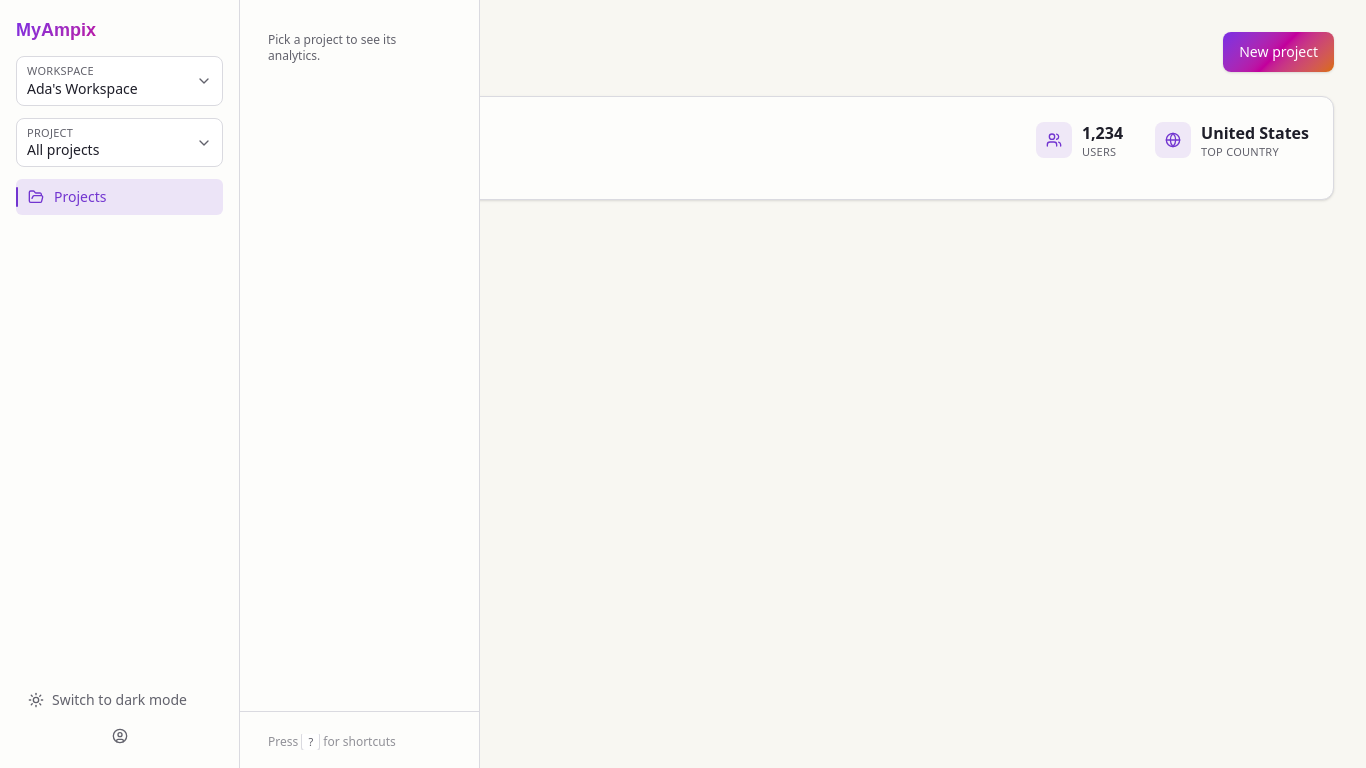
ProjectsPage — creating a project › lets an admin create a new project in the current organization
Expected: the heading "Projects" is shown, [160,36,256,68]
Click the button "New project" at (1279,52), box [1223,32,1334,72]
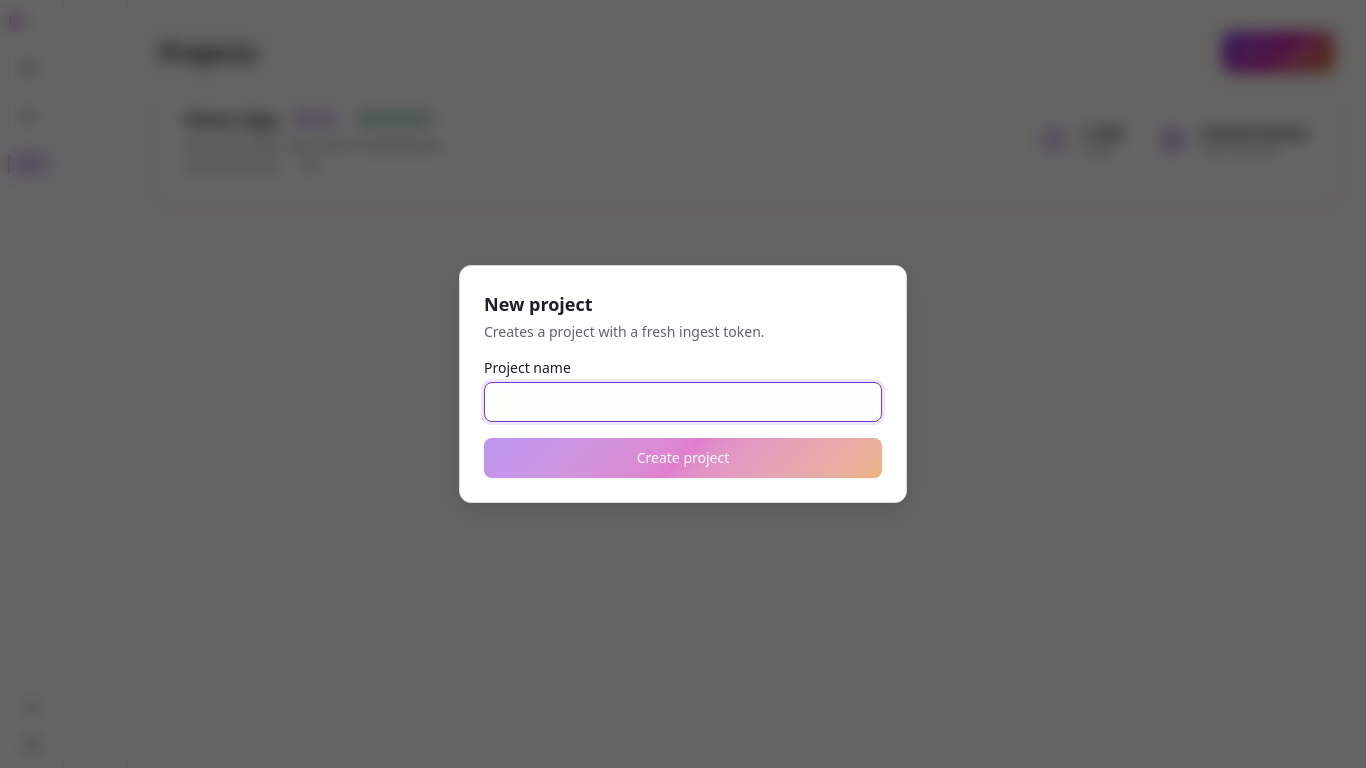
Type "Mobile App" into the field labelled "Project name" at (683,402), box [484,382,882,422]
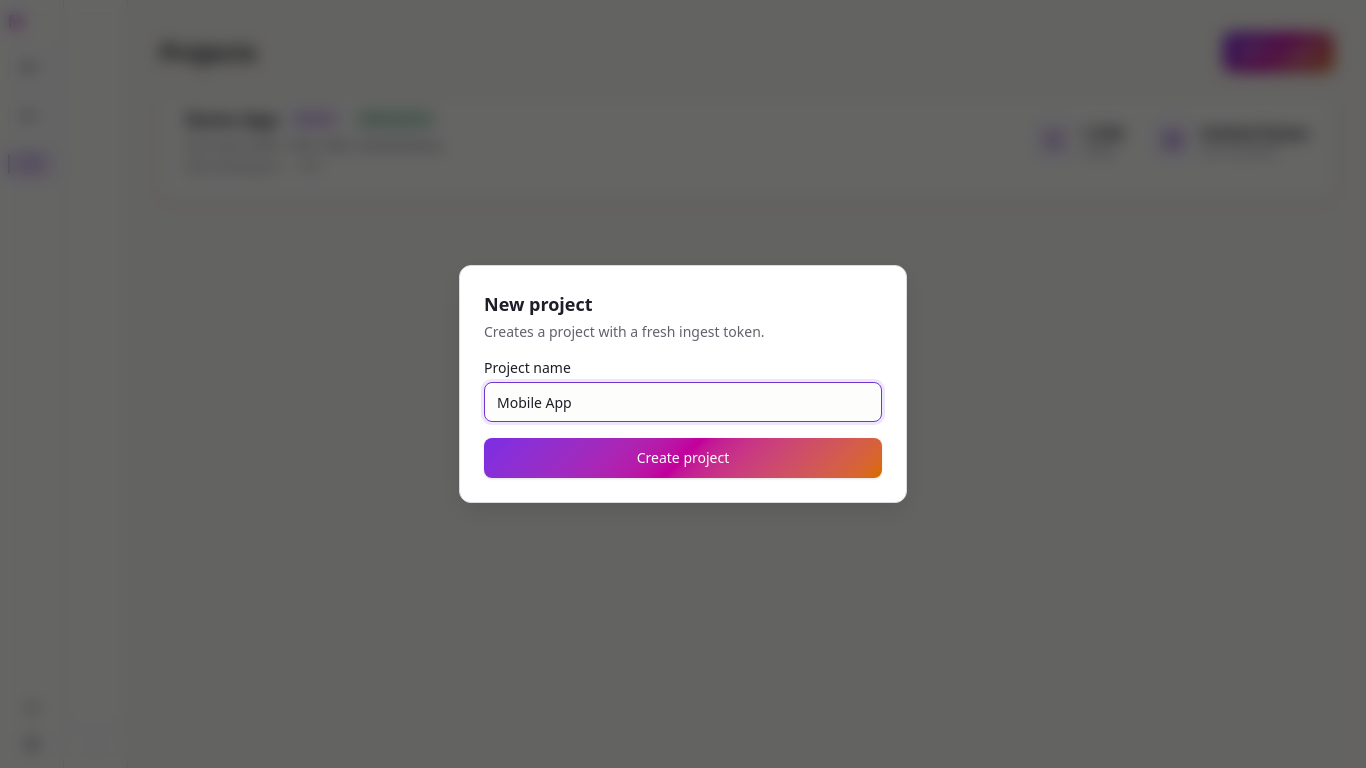
Click the button "Create project" at (683,458), box [484,438,882,478]
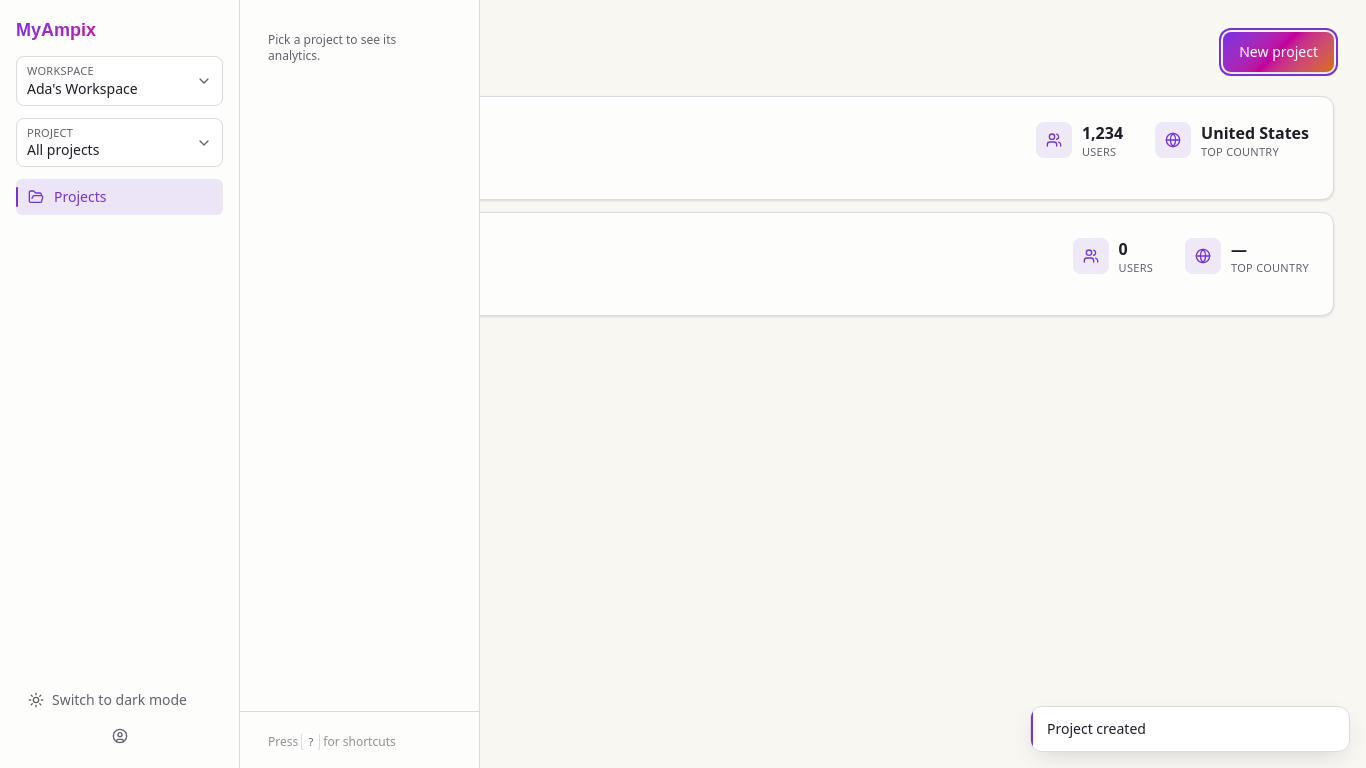
Now the dialog is gone
Now the text "Mobile App" is shown, box [185,221,286,249]
